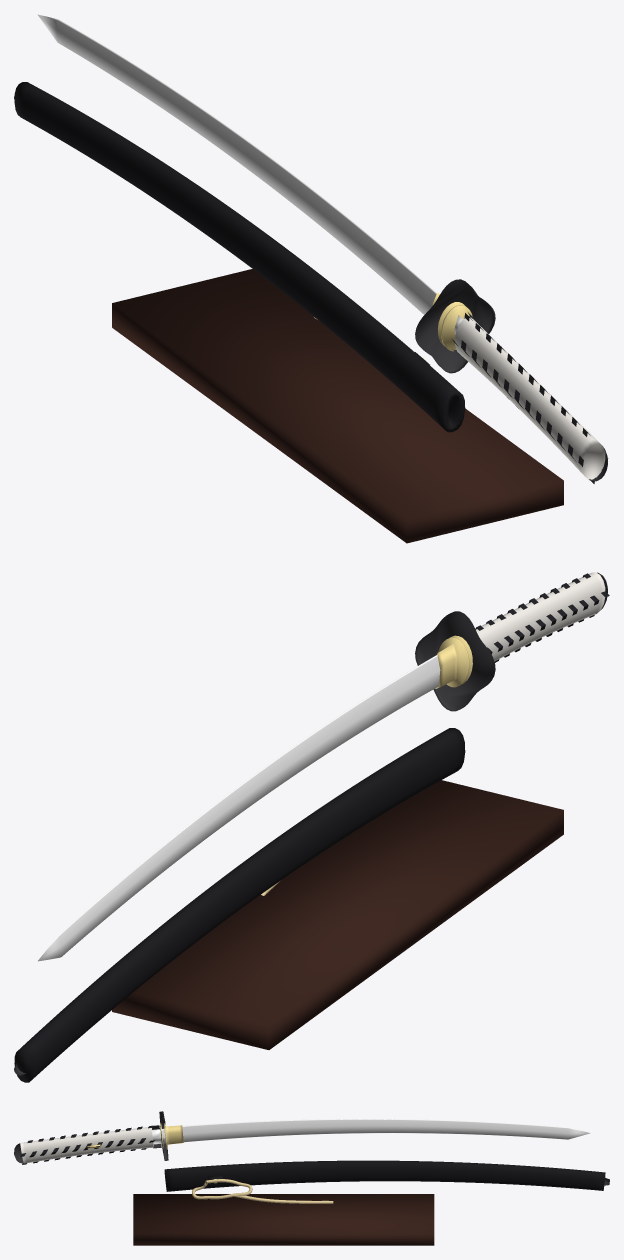
Rendered from katana.glb.
The picture shows the model from 3 angles, top to bottom: view 1: azimuth 30°, elevation 25°; view 2: azimuth 150°, elevation 25°; view 3: azimuth 270°, elevation 25°; orthographic projection. The views are drawn at different scales.
Parts seen in each view (by area): view 1: Katanakake_Stand, Saya, Katana_Blade, Tsuka_Core, Tsuba, Tsuka_Ito; view 2: Katanakake_Stand, Saya, Katana_Blade, Tsuka_Core, Tsuba, Tsuka_Ito, Seppa_Front; view 3: Katanakake_Stand, Saya, Katana_Blade, Tsuka_Core, Sageo, Tsuka_Ito, Habaki.
Boxes of the visible parts, x1,y1,x2,y2 form: Katanakake_Stand: (112,269,563,543); Saya: (14,82,465,432); Katana_Blade: (38,14,462,334); Tsuka_Core: (455,317,605,479); Tsuba: (415,279,495,373); Tsuka_Ito: (451,313,608,483); Katanakake_Stand: (112,780,563,1049); Saya: (14,728,465,1082); Katana_Blade: (38,655,440,961); Tsuka_Core: (476,572,605,661); Tsuba: (415,611,495,711); Tsuka_Ito: (475,573,609,662); Seppa_Front: (438,637,469,687); Katanakake_Stand: (133,1194,434,1245); Saya: (164,1160,605,1191); Katana_Blade: (152,1119,590,1144); Tsuka_Core: (20,1127,153,1163); Sageo: (192,1179,333,1203); Tsuka_Ito: (20,1125,154,1164); Habaki: (166,1125,183,1144).
Size of what is drawn, in the model's own units: 0.16 by 0.2174 by 1.03.
